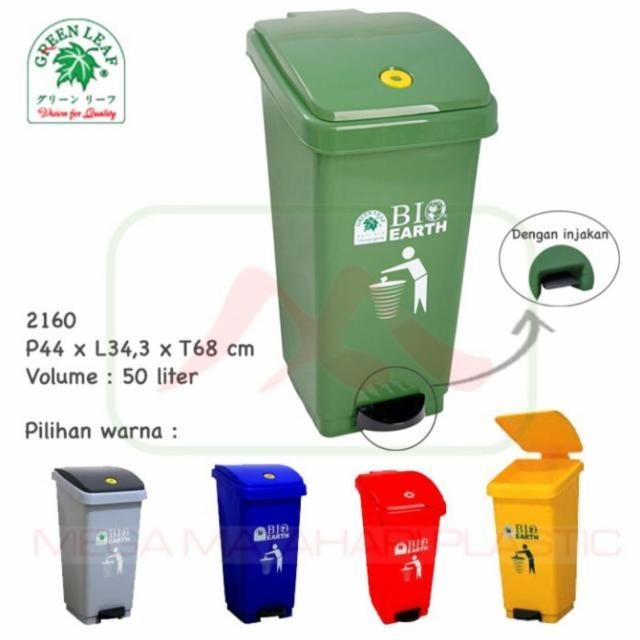Dumpster: (241, 4, 503, 442), (484, 402, 588, 622), (46, 458, 150, 624), (205, 460, 308, 624), (350, 464, 450, 626)
